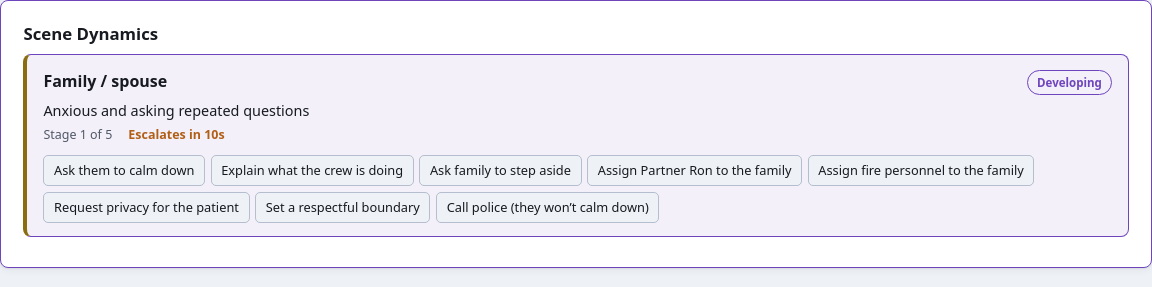
Test: SceneDynamics — management (§20) › assigning a self action can resolve the distraction, which changes state
Click the button "Request privacy for the patient": [146, 207] box [43,192,250,223]
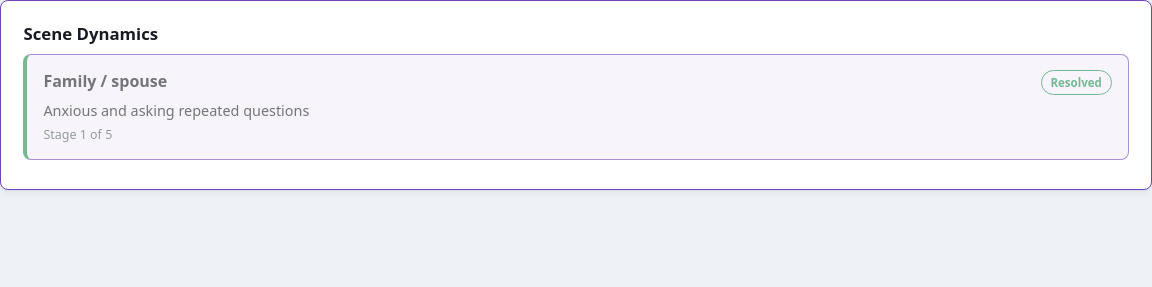
Expected: the text "Resolved" is shown, [1041,70,1112,95]
